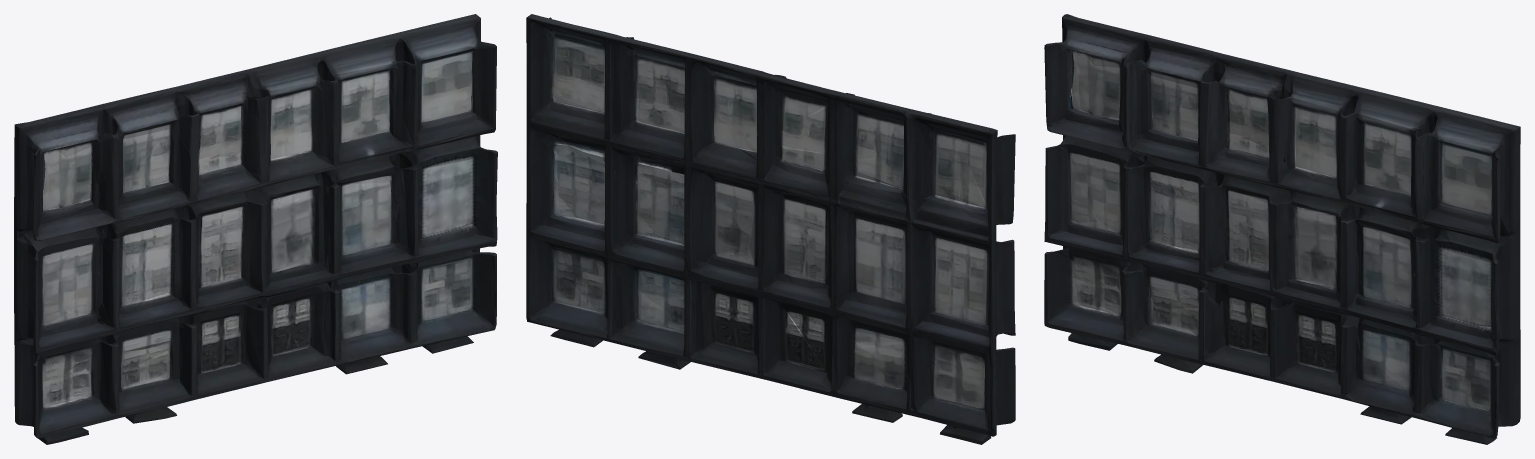
3 renders of one model, left to right at view 1: azimuth 30°, elevation 25°; view 2: azimuth 150°, elevation 25°; view 3: azimuth 330°, elevation 25°, orthographic. The views are drawn at different scales.
Parts seen in each view (by area): view 1: geometry_0; view 2: geometry_0; view 3: geometry_0.
Boxes of the visible parts, x1=… form: geometry_0: x1=14, y1=14, x2=497, y2=444; geometry_0: x1=526, y1=14, x2=1015, y2=444; geometry_0: x1=1044, y1=14, x2=1520, y2=444.
Size of the model in its own units: 0.9984 by 0.6515 by 0.1005.
Materials: 1 (1 with a texture image).
